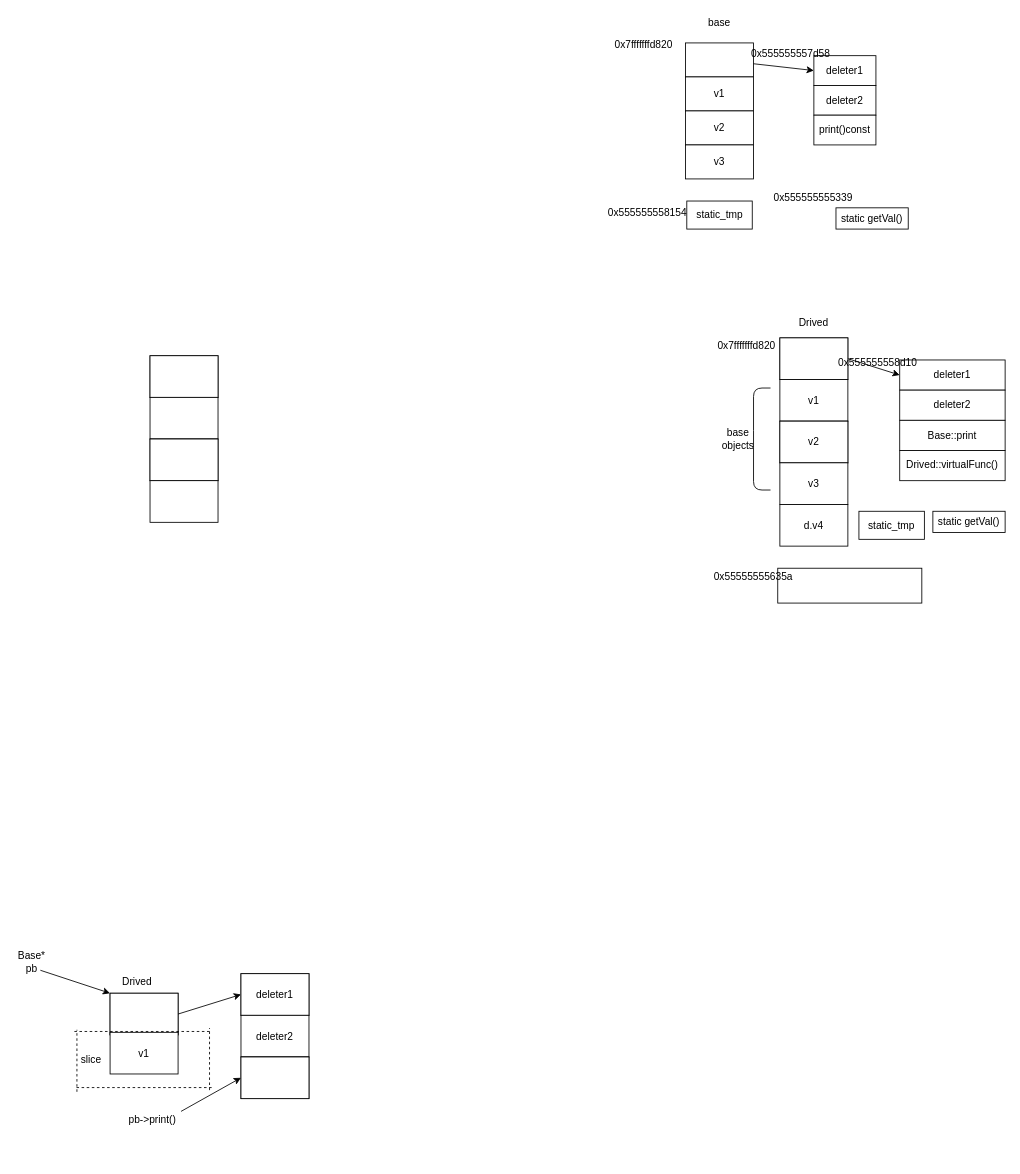
The diagram is 1020 pixels wide and 1174 high, and some of its shapes have lost their labels. Each missing label, with the centre of its shape:
Drived::drivedFunc(): point 849,585
Drived::print(): point 274,1077
vprt: point 719,59
vtbl: point 143,1013
vtpr: point 813,358
